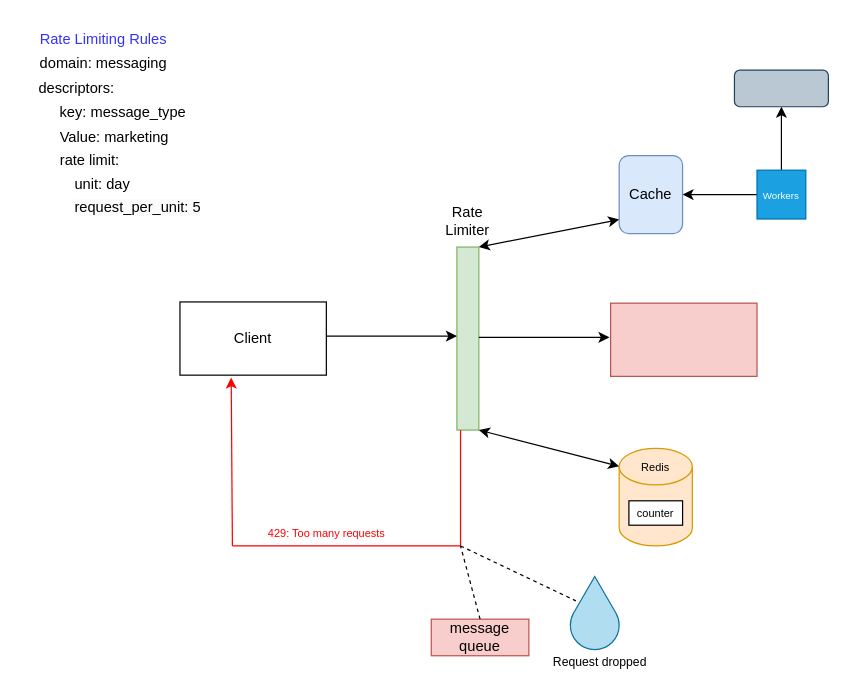
The diagram is 849 pixels wide and 700 high, and some of its shapes have lost their labels. The shapes that lost their labels are listed below. From the top down, each one's centre as x and y in pixels, then its label:
point 780,88: Rules
point 683,339: API Server
